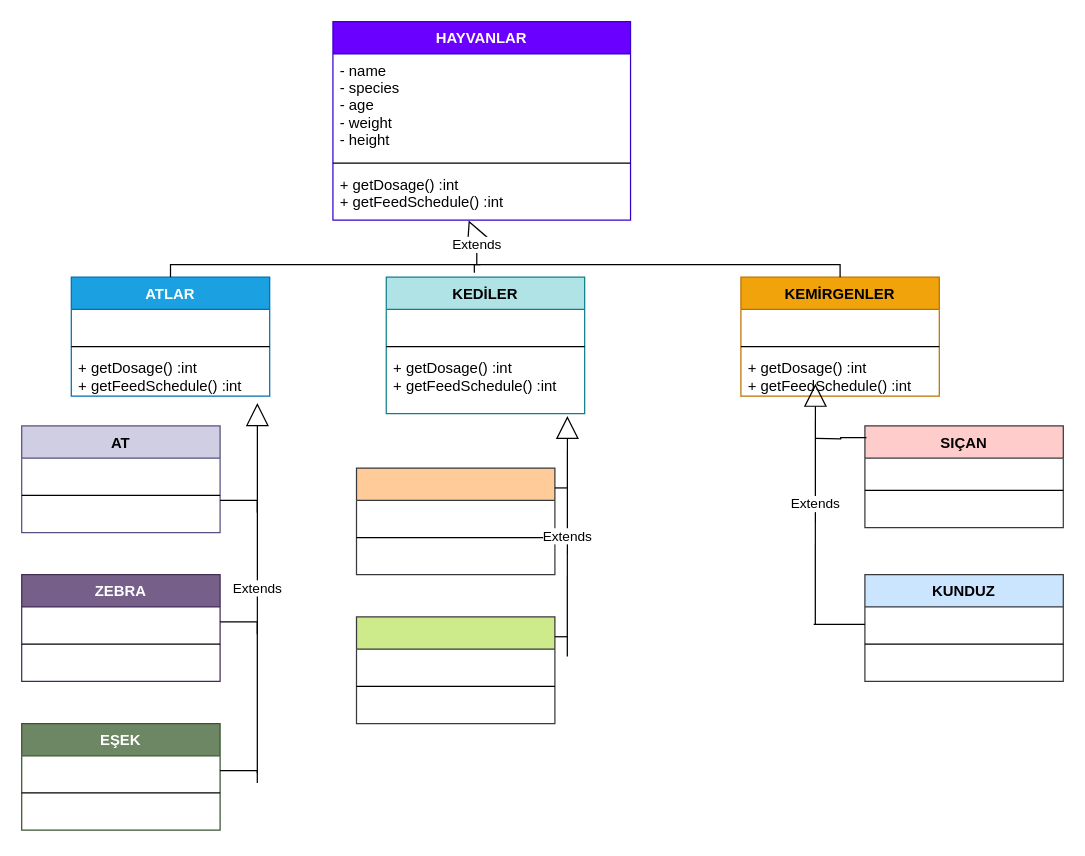
This 1085x856 diagram has some shape labels left out. The shapes that lost their labels are listed below. From the top down, each one's centre as x and y in pixels, then its label:
At (x=455, y=521): "ASLAN".
At (x=455, y=670): "KAPLAN".
